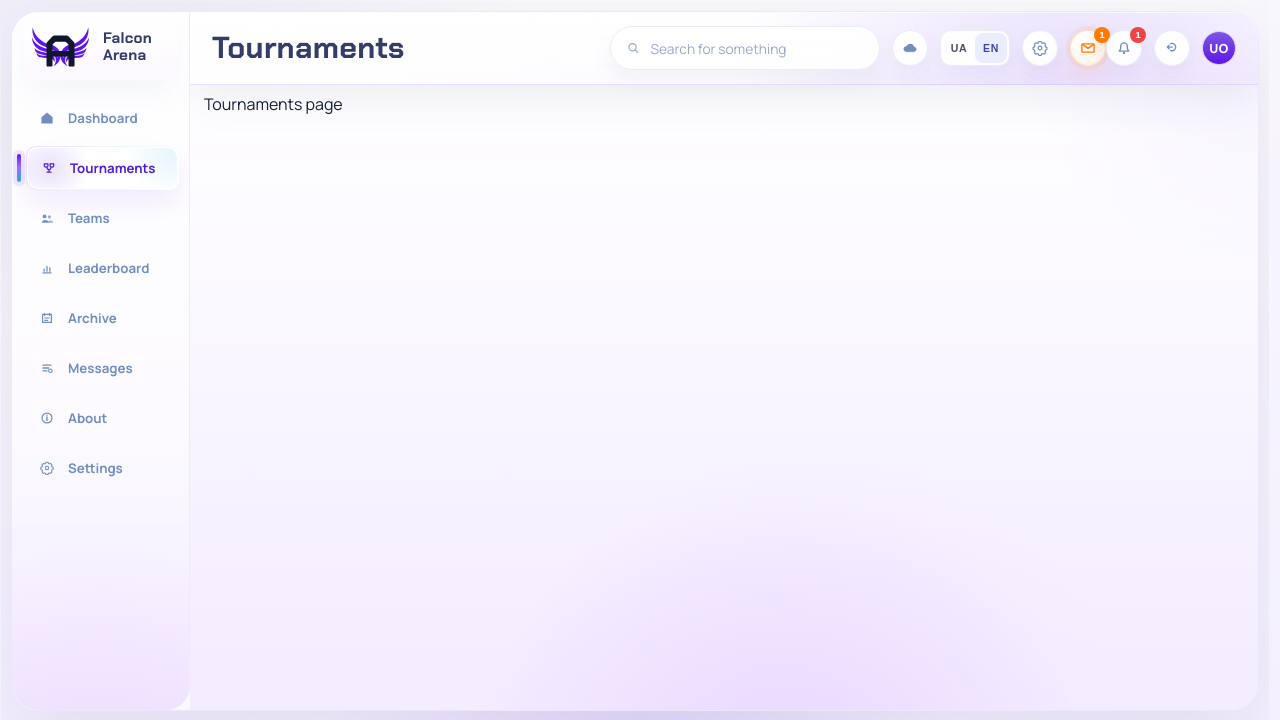
Test case: AppShell › shows unread badge and supports only-unread filter
Expected: the text with class "app-topbar-alerts-badge" is shown, x1=1130 y1=27 x2=1146 y2=43
Expected: the text with class "app-topbar-alerts-badge" reads "1", x1=1135 y1=29 x2=1141 y2=40
Click the button named "Notifications".
click(1124, 48)  # box x1=1106 y1=30 x2=1142 y2=66
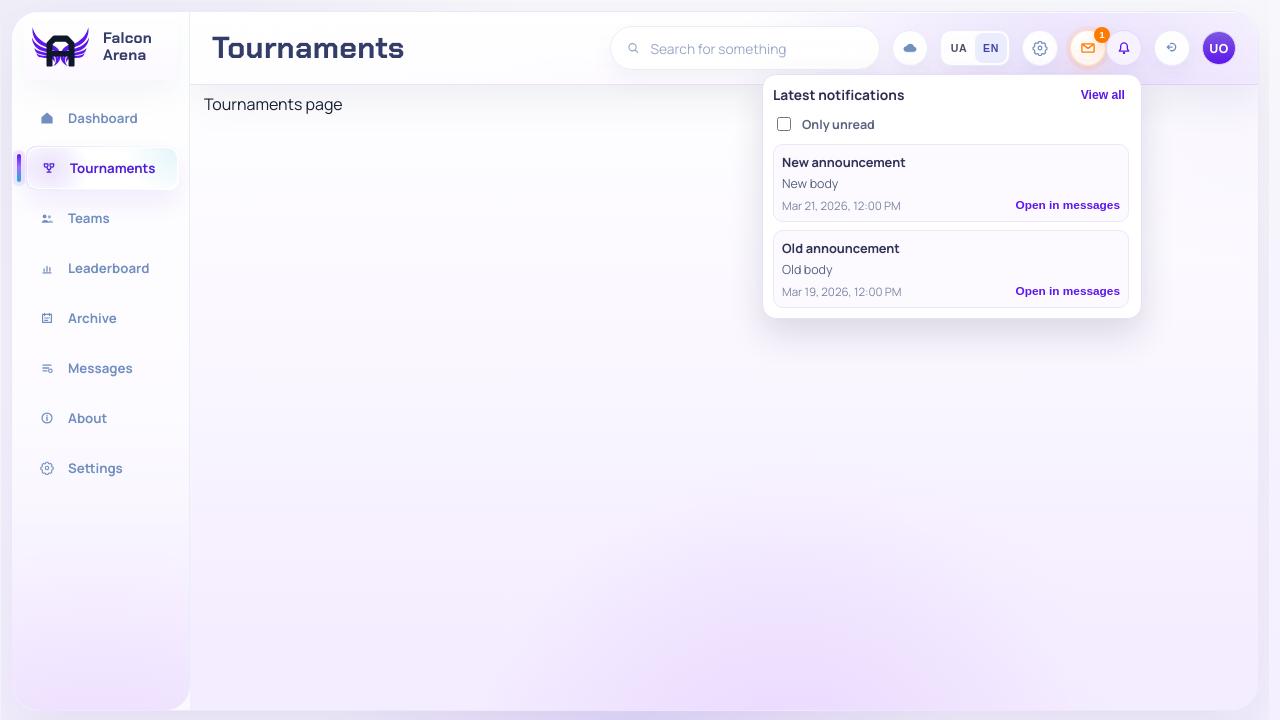
Now the text "Old announcement" is shown, box x1=782 y1=239 x2=900 y2=257
Now the text "New announcement" is shown, box x1=782 y1=153 x2=906 y2=171
Click the checkbox labelled "Only unread".
click(784, 124)  # box x1=777 y1=117 x2=791 y2=131
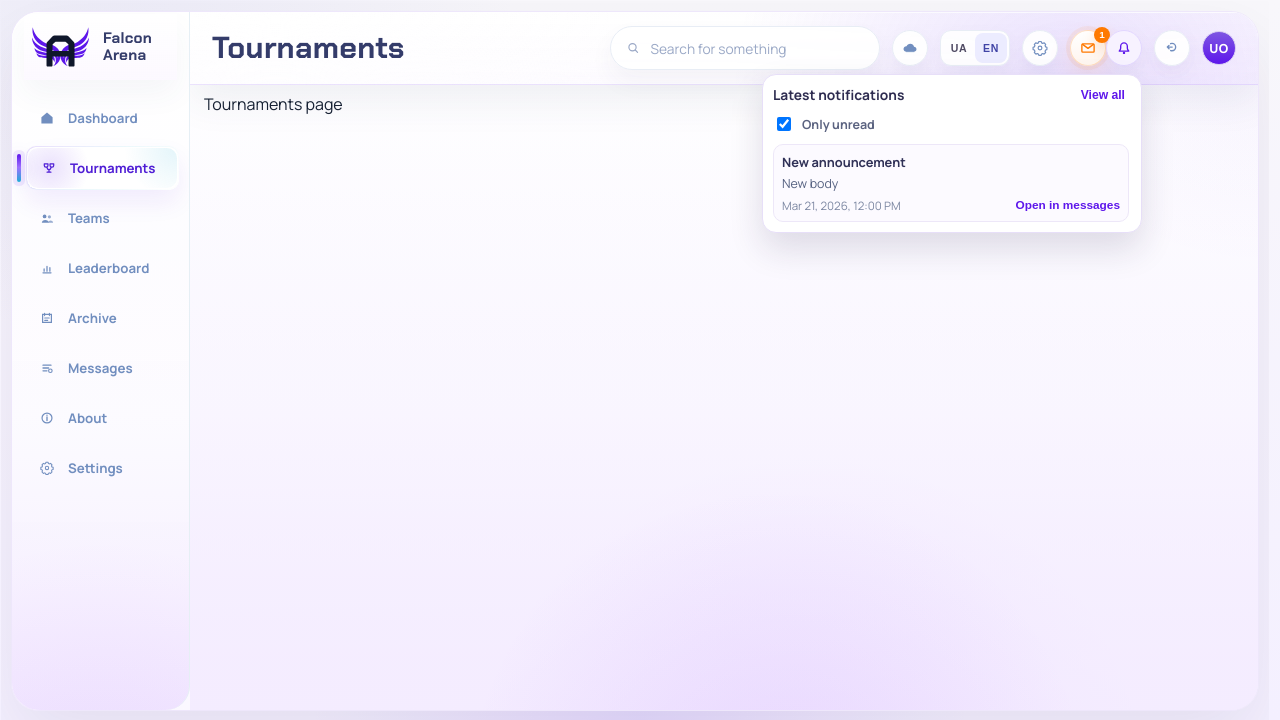
Now the text "New announcement" is shown, box x1=782 y1=153 x2=906 y2=171
Now the text "Old announcement" is gone
